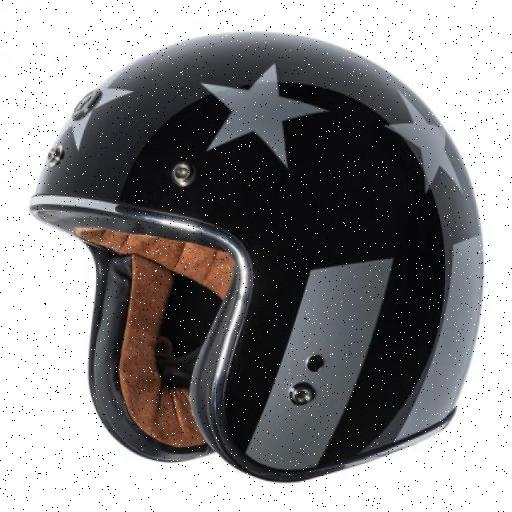Helmet: (35, 22, 487, 480)
